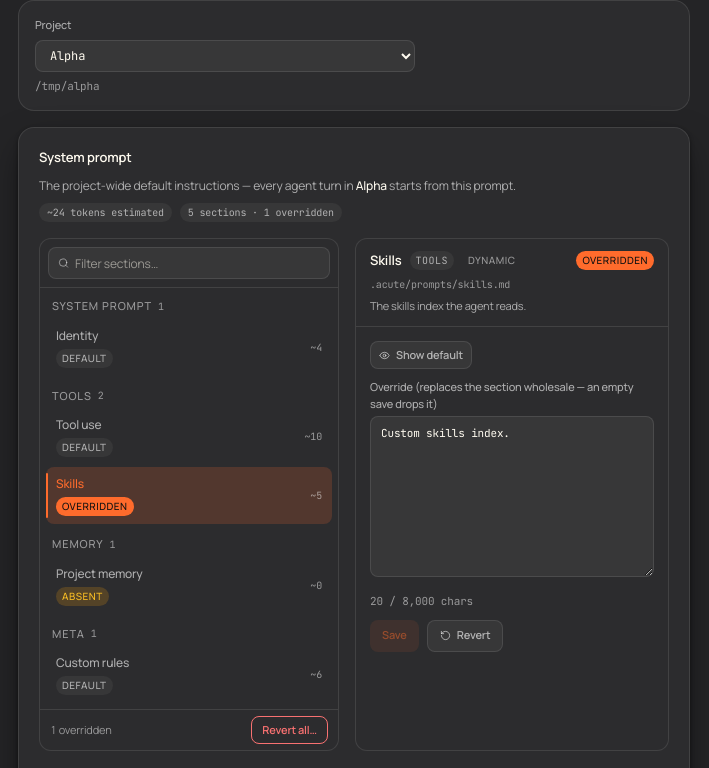
Test: PromptsTab (ROUND-99 R99-F — the project-wide system prompt redesign) › switching projects refetches with the other root and the scope line re-frames to the new project's name
The width and height of the screenshot is (709, 768).
Check: the text with test id "prompt-status-identity" is shown, box [56,348,113,368]
Check: the element with test id "prompt-scope-line" shows "every agent turn in Alpha starts from this prompt", box [39,176,516,194]
Select "Beta" in the dropdown with test id "prompts-project-select" at (225,56), box [35,40,415,72]
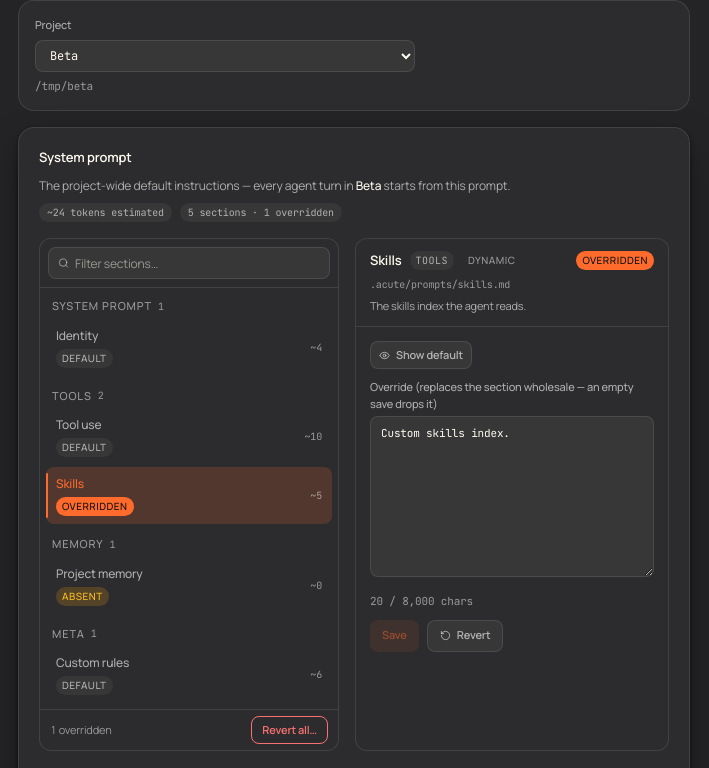
Check: the text "/tmp/beta" is shown, box [35,78,93,92]
Check: the element with test id "prompt-scope-line" shows "every agent turn in Beta starts from this prompt", box [39,176,510,194]
